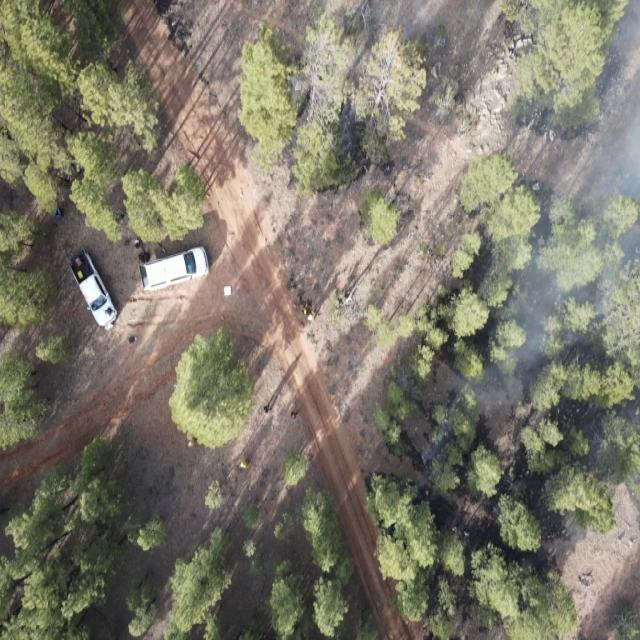smoke: (425, 195, 640, 523), (540, 0, 640, 195)
